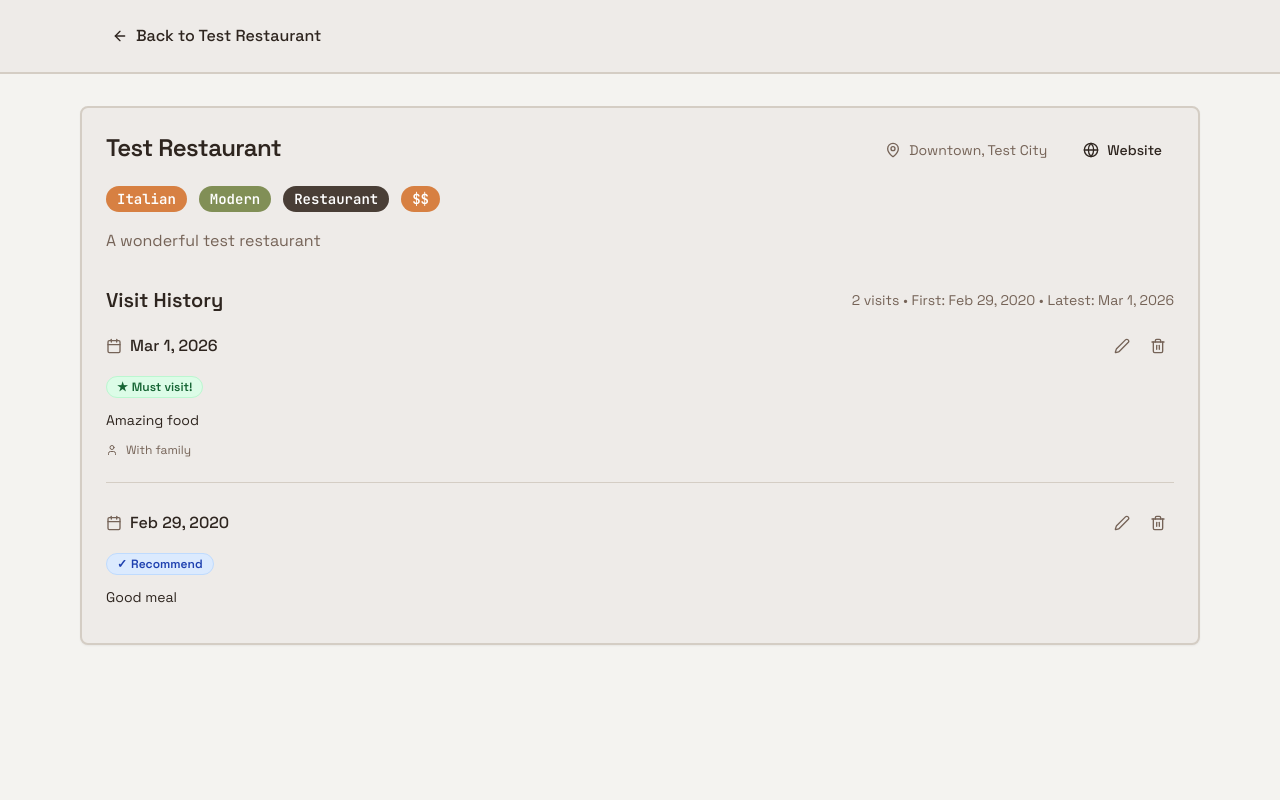
Test: RestaurantVisits Page › Edit and Delete Actions › should show delete confirmation dialog
What coordinates should you click on to do the following:
click the 2nd button named "delete visit"
I would click on:
 (1158, 346)
Its box is [1142,330,1174,362].
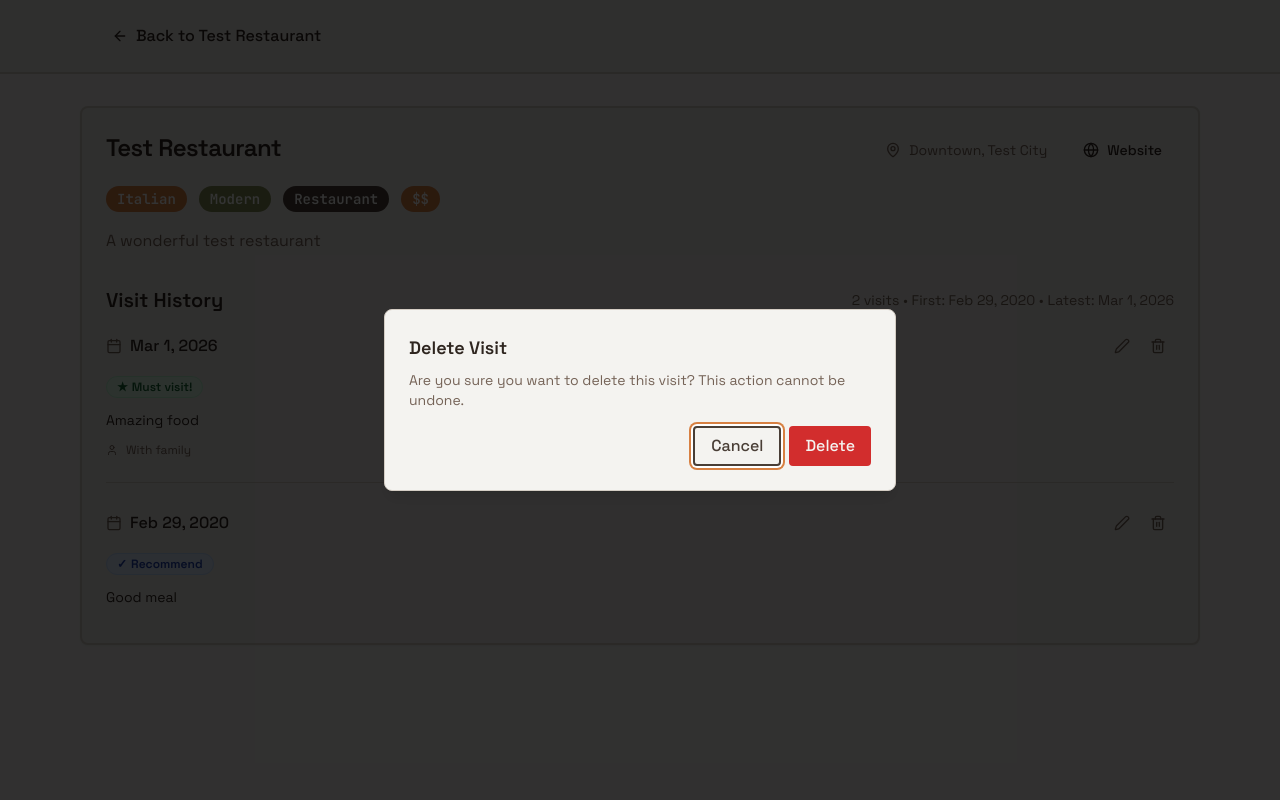
Expected: the heading "Delete Visit" is shown, [409,336,507,359]
